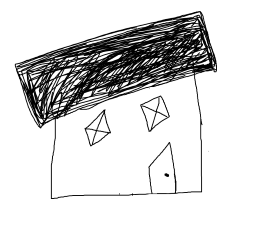closed_window: (84, 108, 112, 147), (140, 96, 169, 131)
door: (144, 141, 182, 201)
shaded_roof: (14, 10, 220, 129)
wall: (46, 73, 210, 202)
